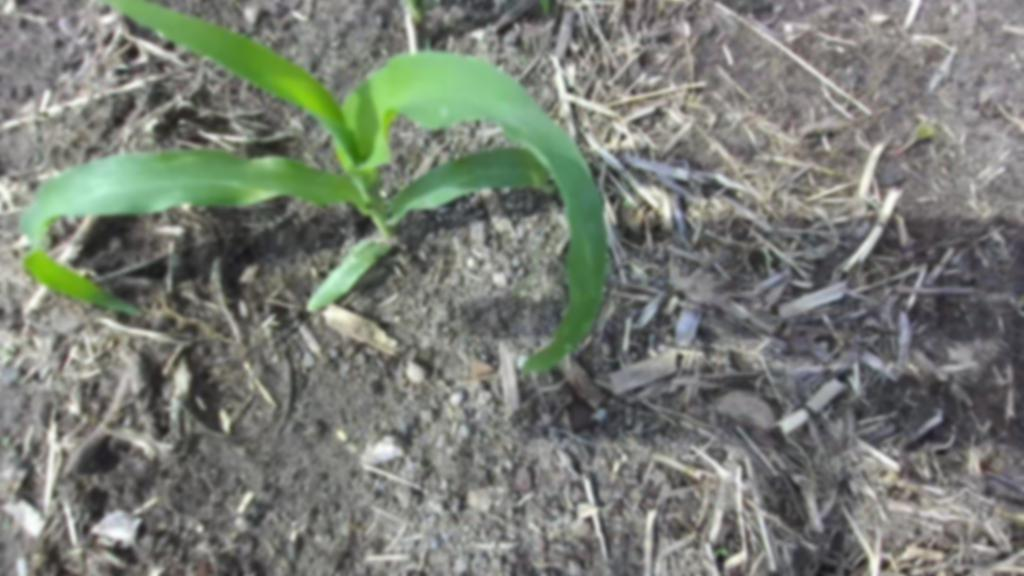BroWeed: (905, 118, 937, 143), (715, 548, 729, 557), (621, 199, 634, 208)
